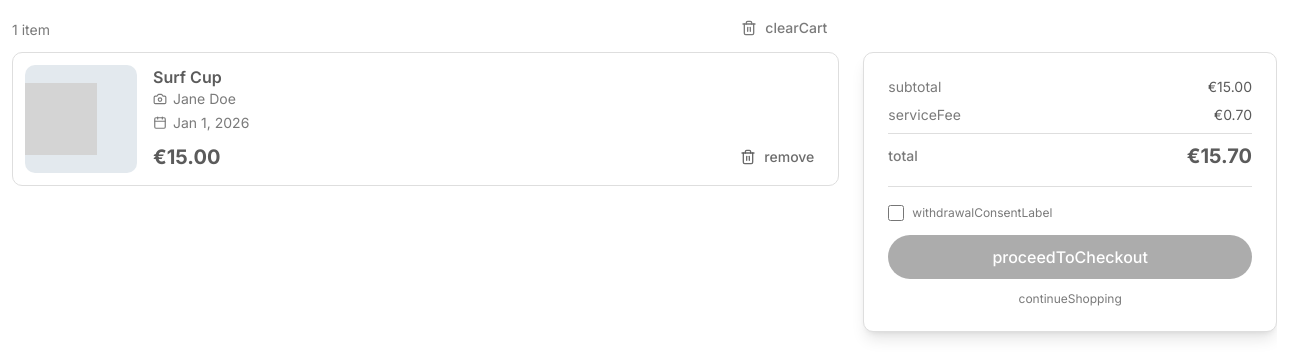
CartContent — optimistic remove (T-121) › drops the item and decrements the badge before the server confirms
Click the button "remove": (777, 157) [728,141,826,173]
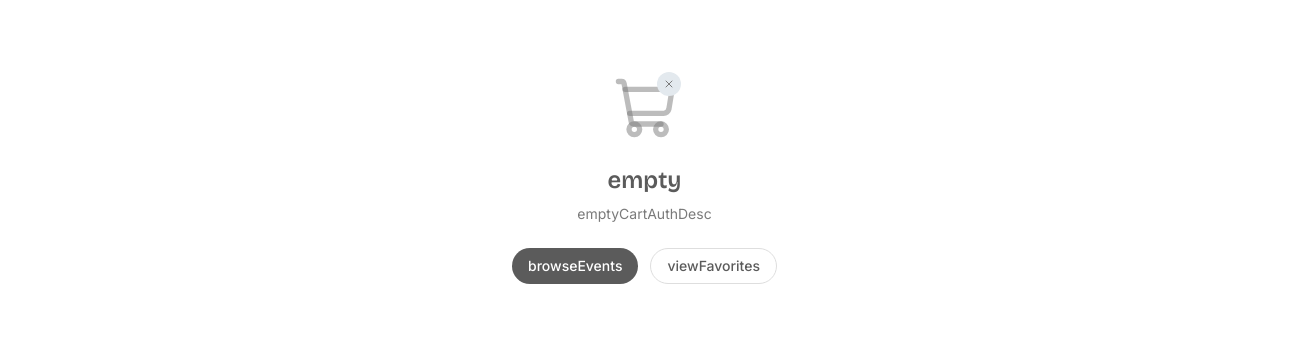
Expected: the link "Surf Cup" is gone
